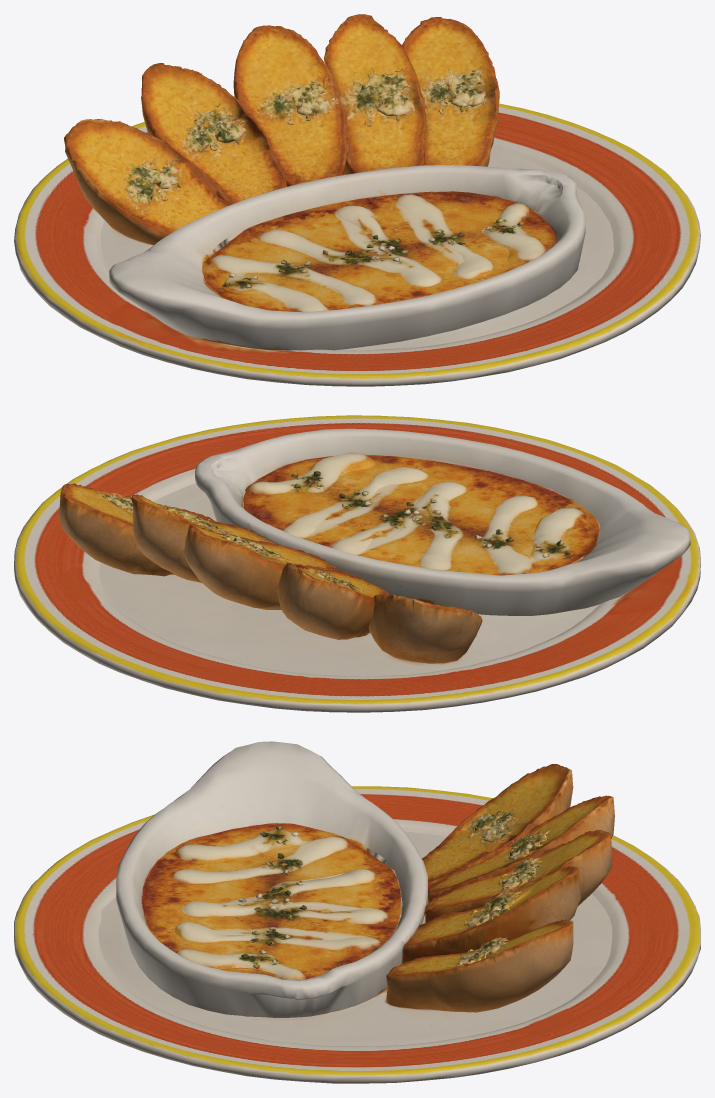
The model's file is huevos_al_forno.fbx.
3 renders of one model, top to bottom at view 1: azimuth 30°, elevation 25°; view 2: azimuth 150°, elevation 25°; view 3: azimuth 270°, elevation 25°, orthographic.
Parts seen in each view (by area): view 1: meshes[0]; view 2: meshes[0]; view 3: meshes[0].
Boxes of the visible parts, x1,y1,x2,y2 form: meshes[0]: (14,14,700,386); meshes[0]: (14,415,700,712); meshes[0]: (14,741,700,1083).
Size of the model in its own units: 99.8 by 24.8 by 99.8.
Materials: 1 (1 with a texture image).
